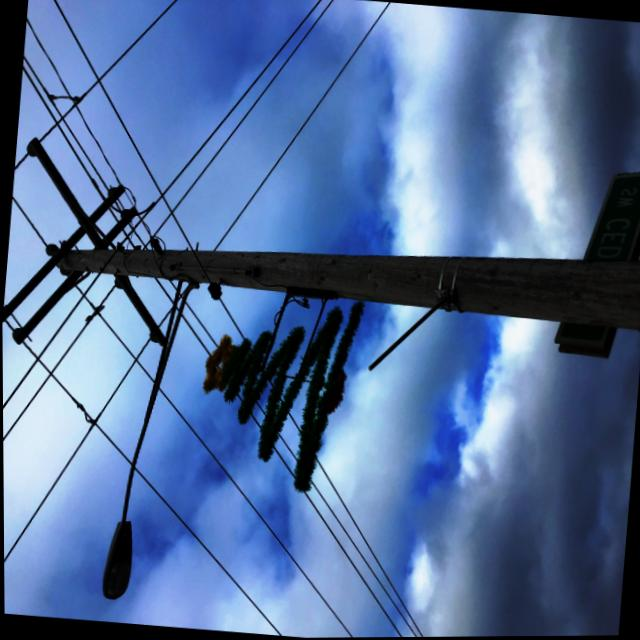obstruction: (201, 307, 344, 466)
poles: (2, 137, 640, 601)
wires: (128, 449, 441, 639), (17, 0, 381, 161), (2, 341, 140, 589)
